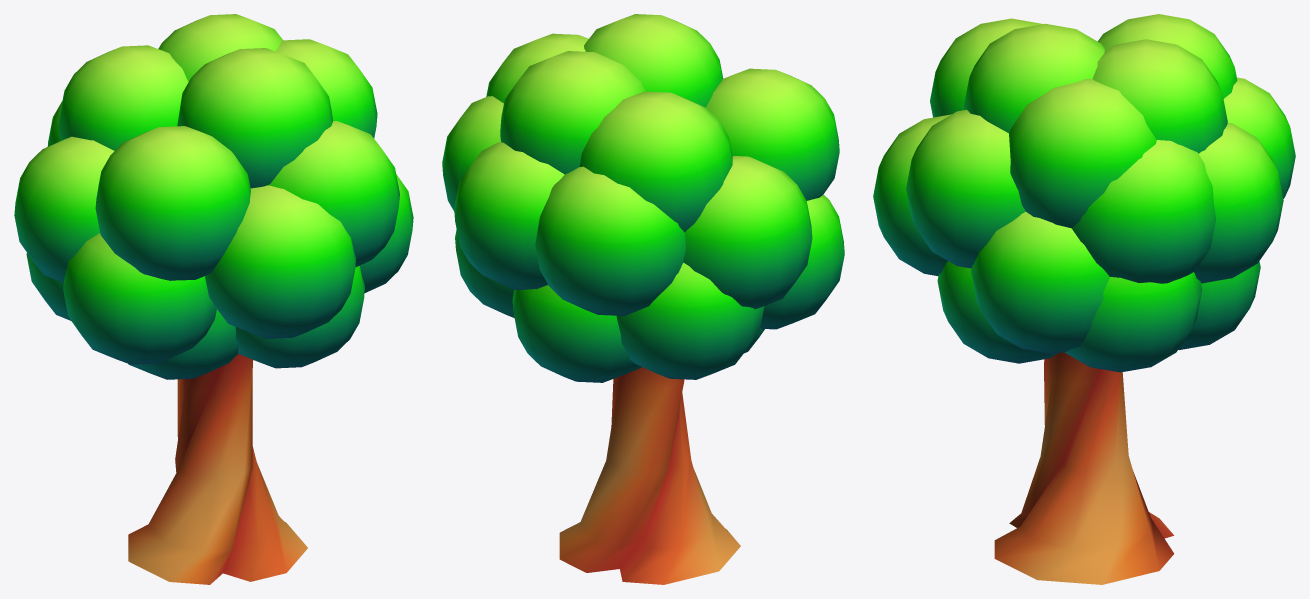
Rendered from Tree_1.fbx.
The picture shows the model from 3 angles, left to right: view 1: azimuth 30°, elevation 25°; view 2: azimuth 150°, elevation 25°; view 3: azimuth 270°, elevation 25°; orthographic projection. The views are drawn at different scales.
Parts seen in each view (by area): view 1: Tree_1; view 2: Tree_1; view 3: Tree_1.
Part boxes in pixels (x1,y1,x2,y2): Tree_1: [14, 14, 413, 584]; Tree_1: [442, 14, 844, 584]; Tree_1: [873, 14, 1295, 584].
Bounding box in the file's own units: 5.08 × 3.63 × 3.72.
